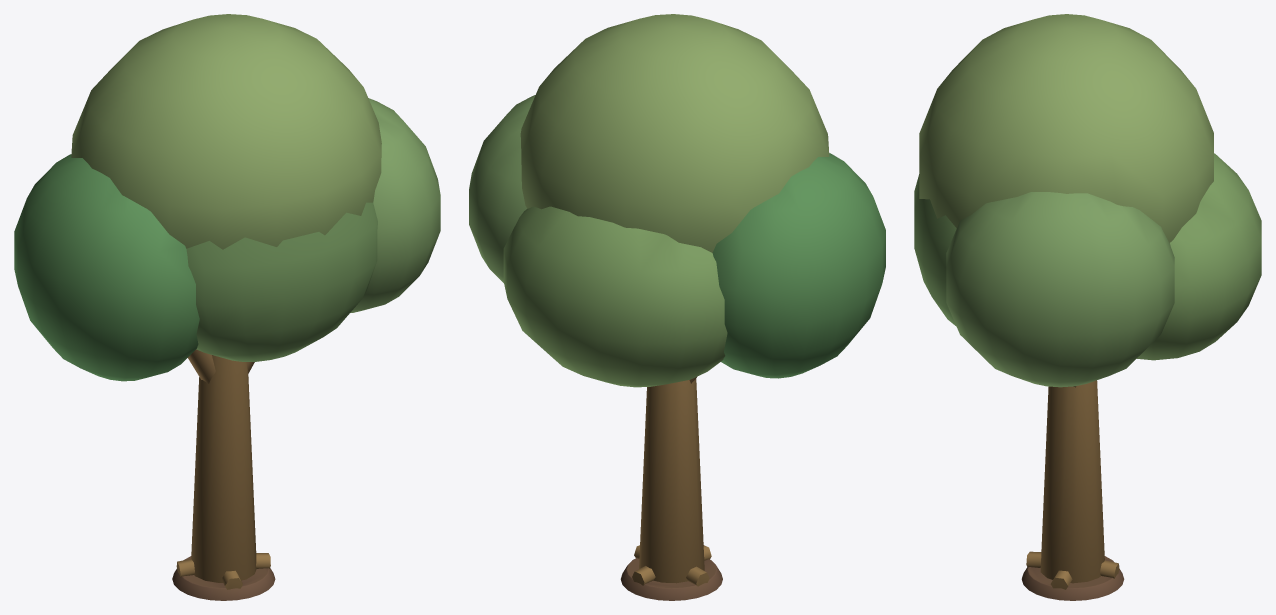
Rendered from tree_stage2.glb.
3 views of the same model, side by side, from view 1: azimuth 30°, elevation 25°; view 2: azimuth 150°, elevation 25°; view 3: azimuth 270°, elevation 25° (orthographic).
Bounding box in the file's own units: 1.46 × 2 × 1.14.
